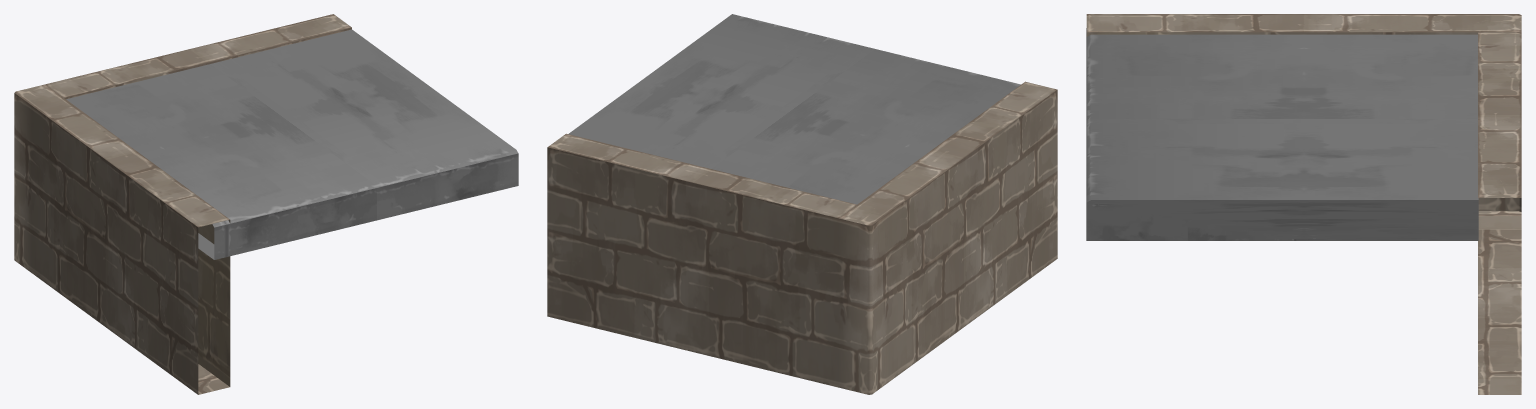
The model's file is Stairs_Exterior_Platform45Clean.gltf.
3 renders of one model, left to right at view 1: azimuth 30°, elevation 25°; view 2: azimuth 150°, elevation 25°; view 3: azimuth 270°, elevation 25°, orthographic. The views are drawn at different scales.
Visible parts, largest first — view 1: Stairs_Exterior_Platform45Clean; view 2: Stairs_Exterior_Platform45Clean; view 3: Stairs_Exterior_Platform45Clean.
Part boxes in pixels (left/top/right/bottom): Stairs_Exterior_Platform45Clean: left=14, top=14, right=518, bottom=394; Stairs_Exterior_Platform45Clean: left=547, top=14, right=1057, bottom=394; Stairs_Exterior_Platform45Clean: left=1086, top=14, right=1521, bottom=394.
Bounding box in the file's own units: 2 × 1 × 2.
Materials: 2 (2 with a texture image).
